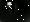person: (8, 4, 13, 13)
